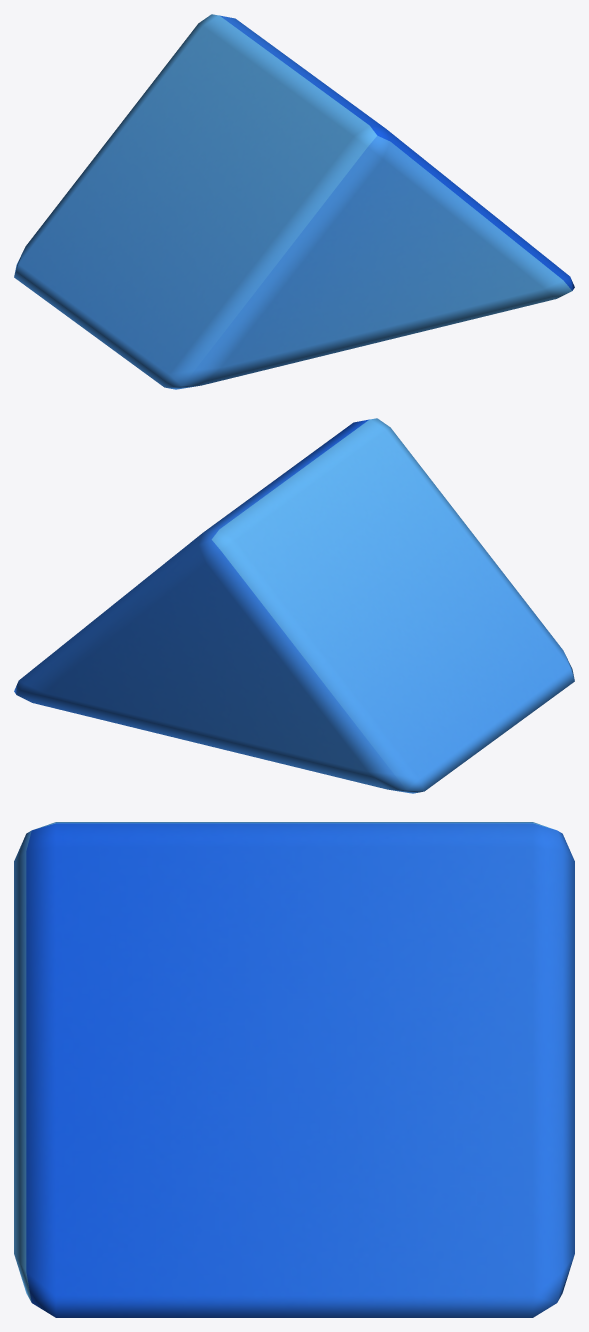
Rendered from BlockPitchedRoofBlue.fbx.
3 renders of one model, top to bottom at view 1: azimuth 30°, elevation 25°; view 2: azimuth 150°, elevation 25°; view 3: azimuth 270°, elevation 25°, orthographic. The views are drawn at different scales.
Visible parts, largest first — view 1: Cube.014; view 2: Cube.014; view 3: Cube.014.
Part boxes in pixels (x1,y1,x2,y2): Cube.014: (14,14,574,389); Cube.014: (14,418,574,793); Cube.014: (14,822,574,1317).
Size of the model in its own units: 268 by 135 by 200.
